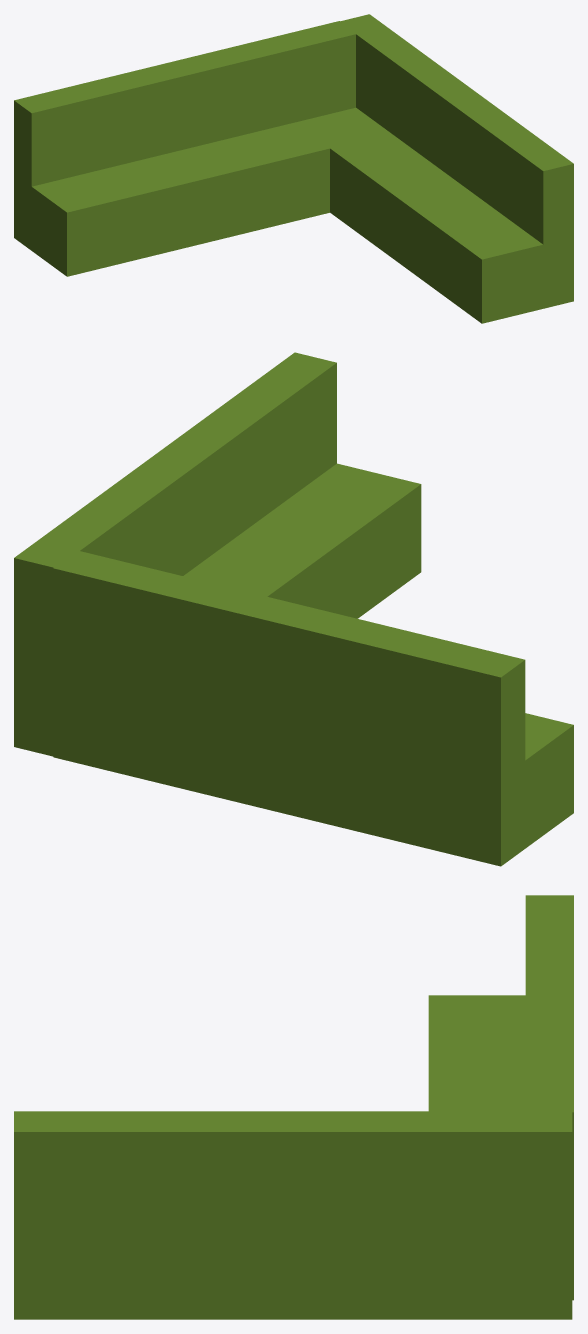
Rendered from banquette_coin_pregraph.fbx.
3 views of the same model, one above another, from view 1: azimuth 30°, elevation 25°; view 2: azimuth 150°, elevation 25°; view 3: azimuth 270°, elevation 25° (orthographic). The views are drawn at different scales.
Visible parts, largest first — view 1: banquette_coin; view 2: banquette_coin; view 3: banquette_coin.
Part boxes in pixels (x1=…): banquette_coin: x1=14, y1=14, x2=573, y2=323; banquette_coin: x1=14, y1=352, x2=573, y2=866; banquette_coin: x1=14, y1=895, x2=573, y2=1319.
Bounding box in the file's own units: 81 × 30 × 81.
